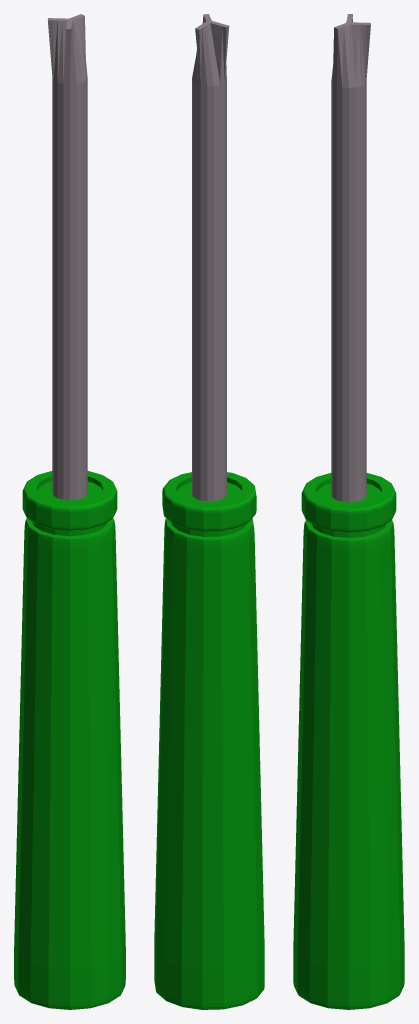
The model's file is ScrewDriverY.fbx.
3 renders of one model, left to right at view 1: azimuth 90°, elevation 25°; view 2: azimuth 150°, elevation 25°; view 3: azimuth 270°, elevation 25°, orthographic.
Visible parts, largest first — view 1: ScrewDriverY; view 2: ScrewDriverY; view 3: ScrewDriverY.
Boxes of the visible parts, left/top/right/bottom form: ScrewDriverY: left=14, top=14, right=125, bottom=1009; ScrewDriverY: left=154, top=14, right=264, bottom=1009; ScrewDriverY: left=293, top=14, right=404, bottom=1009.
Size of the model in its own units: 520 by 4972 by 520.
